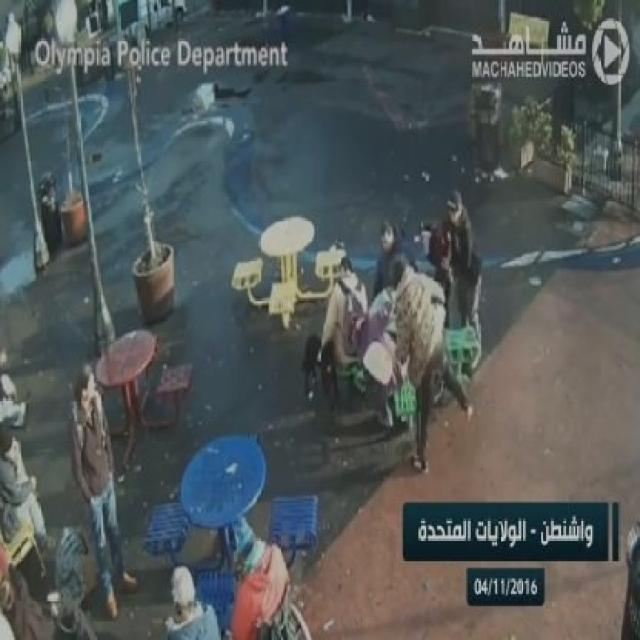non-fight: (58, 356, 142, 622), (383, 252, 481, 470), (148, 560, 235, 638)
